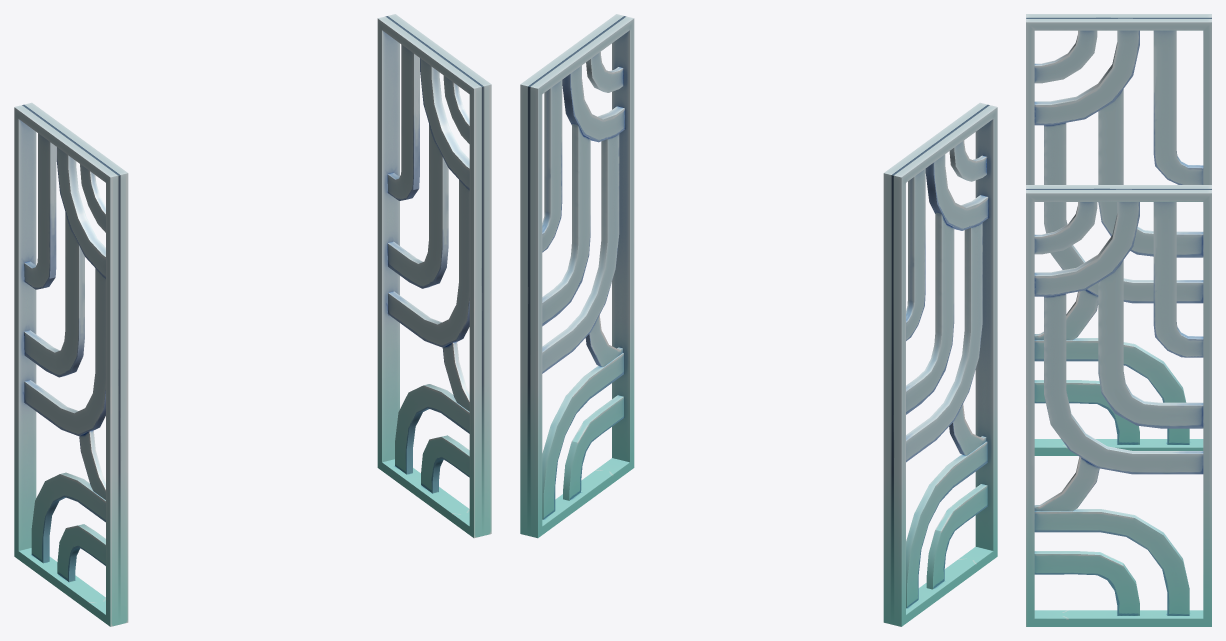
The model's file is Pared_Decorativa.fbx.
3 renders of one model, left to right at view 1: azimuth 30°, elevation 25°; view 2: azimuth 150°, elevation 25°; view 3: azimuth 270°, elevation 25°, orthographic. The views are drawn at different scales.
Visible parts, largest first — view 1: Pered_decoracion; view 2: Pered_decoracion; view 3: Pered_decoracion.
Boxes of the visible parts, x1=… form: Pered_decoracion: x1=14, y1=14, x2=491, y2=626; Pered_decoracion: x1=520, y1=14, x2=997, y2=626; Pered_decoracion: x1=1026, y1=14, x2=1211, y2=626.
Bounding box in the file's own units: 559 × 629 × 244.
